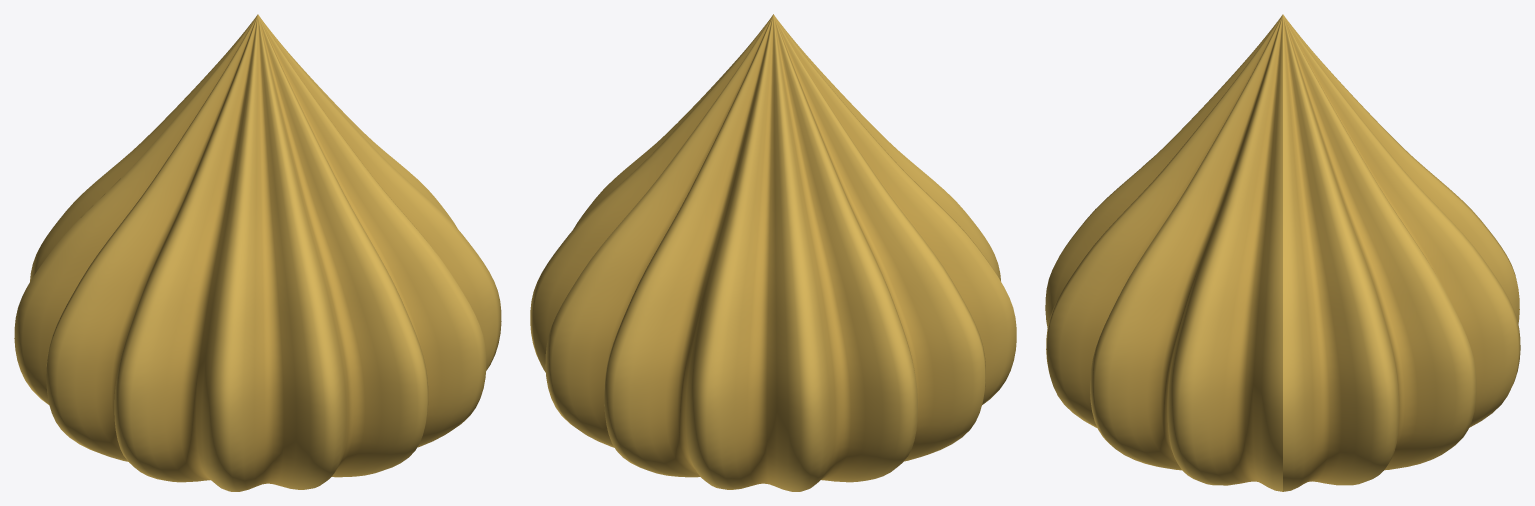
Rendered from modak.glb.
3 views of the same model, side by side, from view 1: azimuth 30°, elevation 25°; view 2: azimuth 150°, elevation 25°; view 3: azimuth 270°, elevation 25° (orthographic).
Parts seen in each view (by area): view 1: Fourteen hand-pleated folds; view 2: Fourteen hand-pleated folds; view 3: Fourteen hand-pleated folds.
Part boxes in pixels (x1=…): Fourteen hand-pleated folds: x1=14, y1=14, x2=501, y2=491; Fourteen hand-pleated folds: x1=530, y1=14, x2=1016, y2=491; Fourteen hand-pleated folds: x1=1045, y1=14, x2=1520, y2=491.
Bounding box in the file's own units: 0.9147 × 0.886 × 0.8912.
